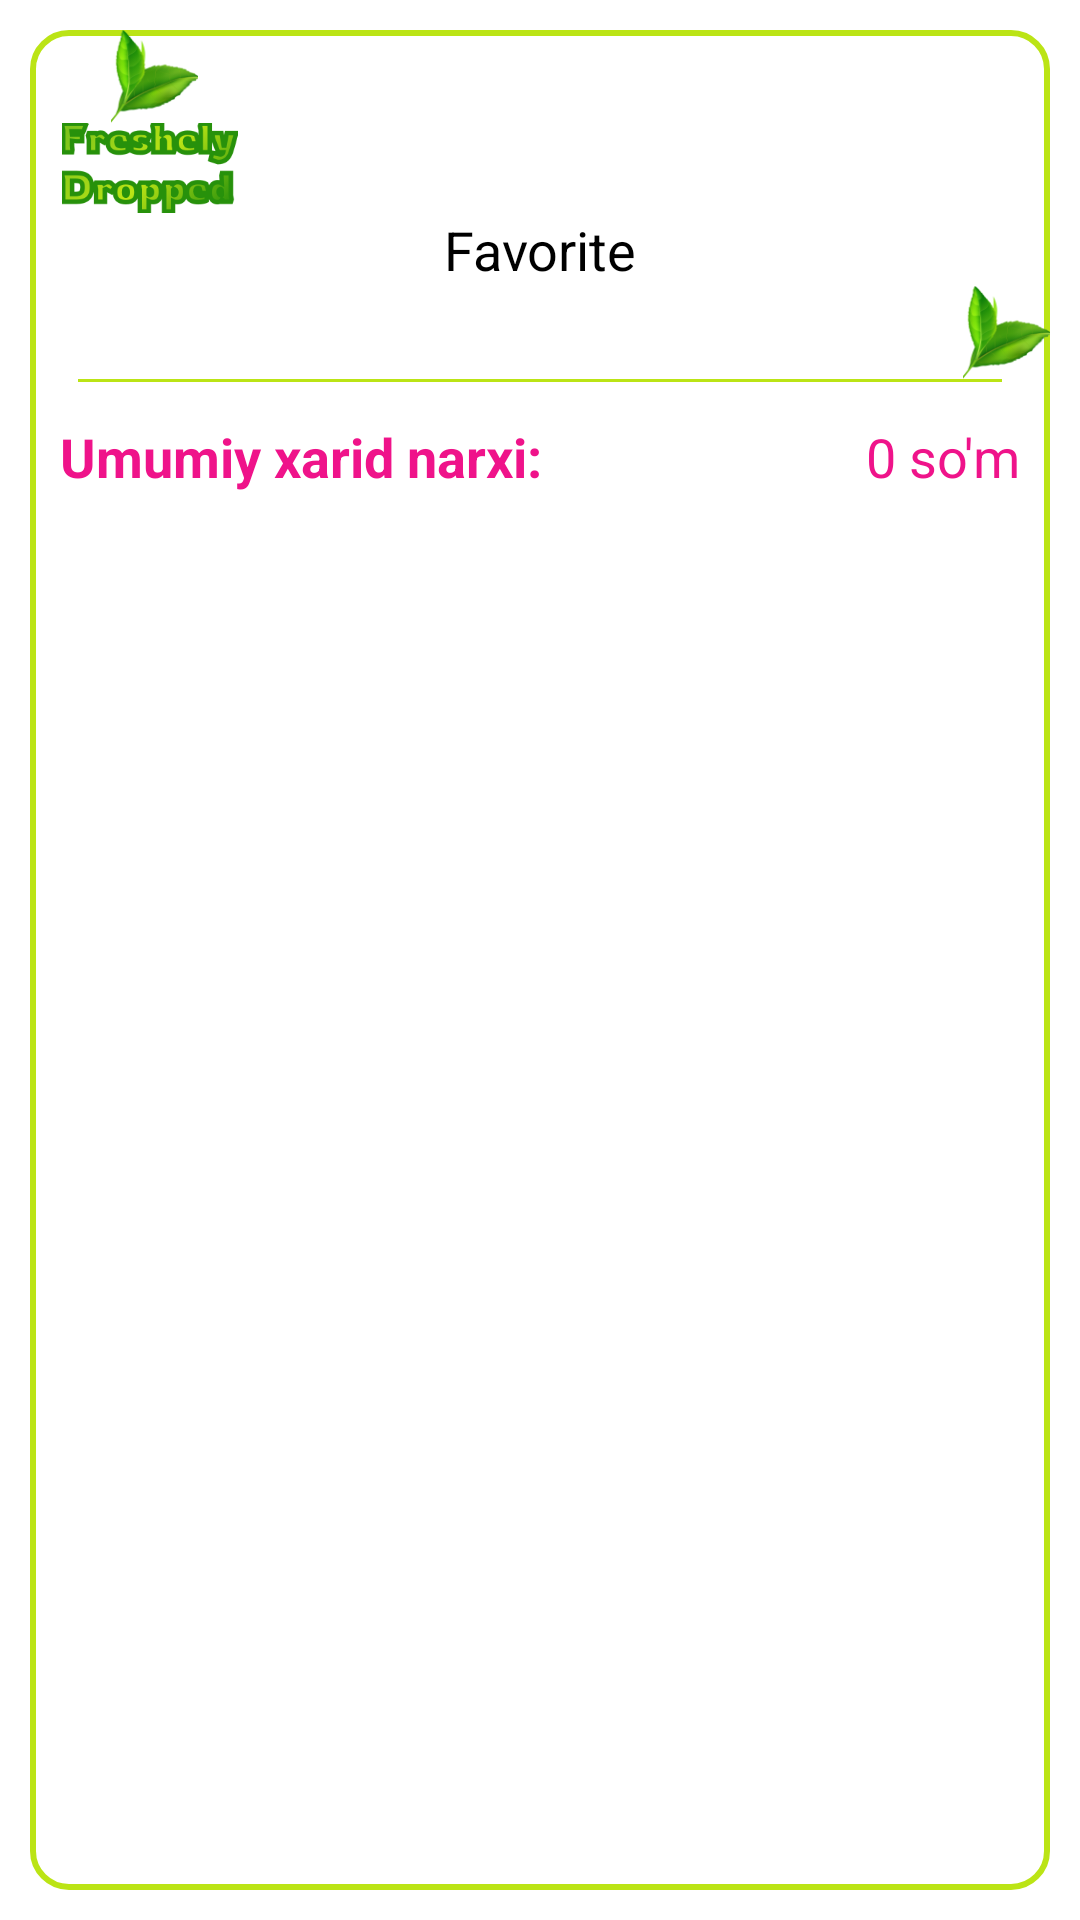

Icon click points for this 1080 x 1920 phone screenshot, format [x,y]:
home leaf: [154,76], [1006,332]
